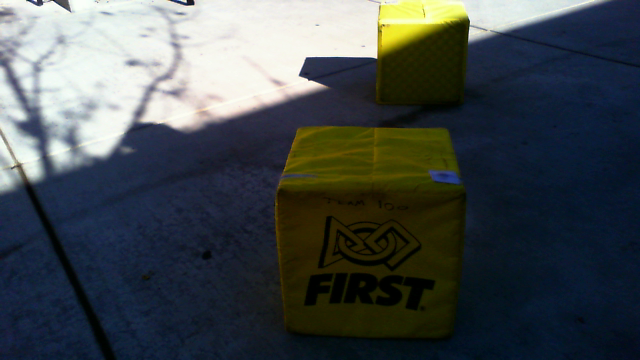cube: (275, 126, 467, 339), (375, 1, 471, 106)
